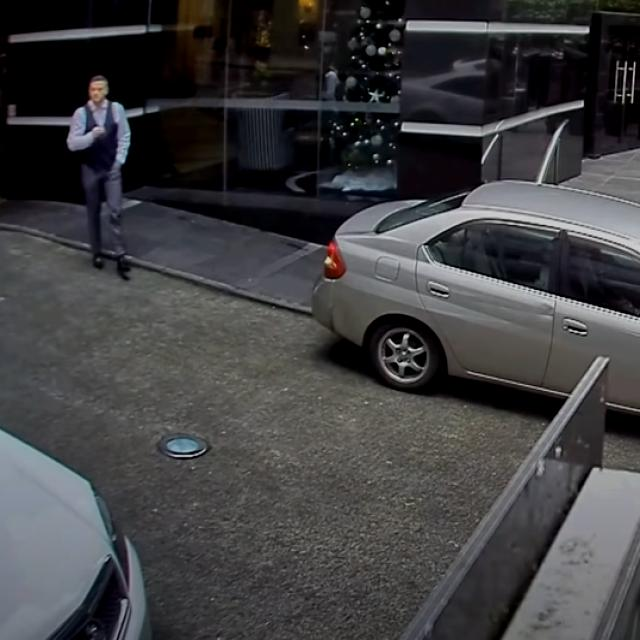Car: (292, 144, 640, 442), (0, 381, 205, 640)
